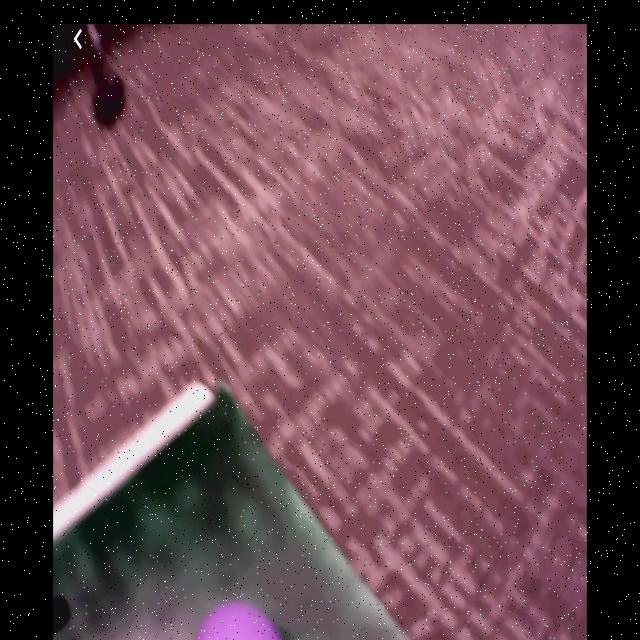ball: (194, 598, 284, 640)
